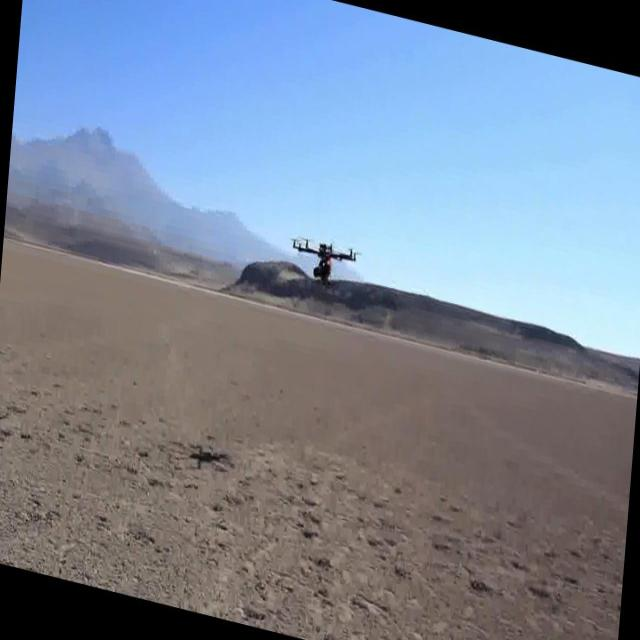drone: (286, 217, 360, 293)
